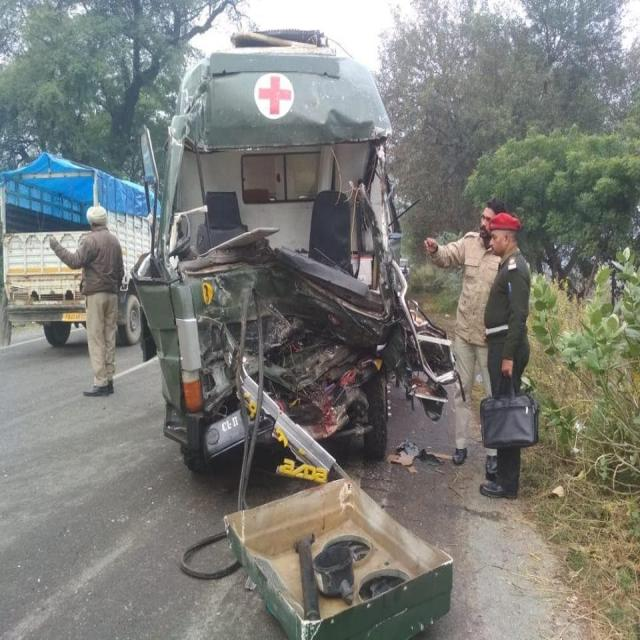accident: (134, 32, 458, 638)
truck: (0, 153, 150, 346)
